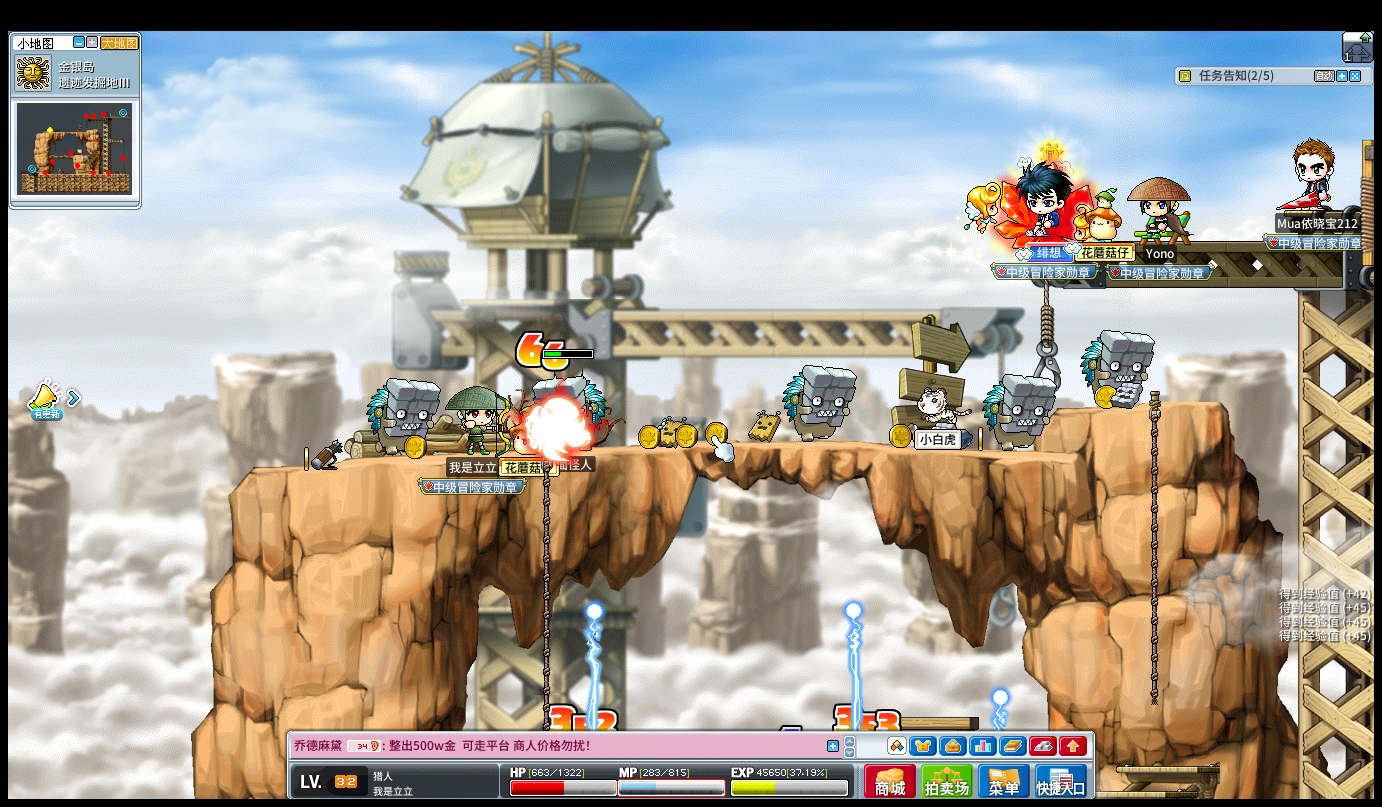floor: (230, 436, 1154, 463), (251, 433, 1114, 457), (1060, 397, 1226, 413), (1114, 764, 1218, 775)
monster: (1079, 329, 1155, 411), (365, 378, 440, 459), (781, 364, 857, 443), (529, 373, 608, 449), (982, 373, 1056, 454)
rope: (1146, 383, 1160, 707), (540, 443, 552, 678), (1040, 282, 1053, 360)
